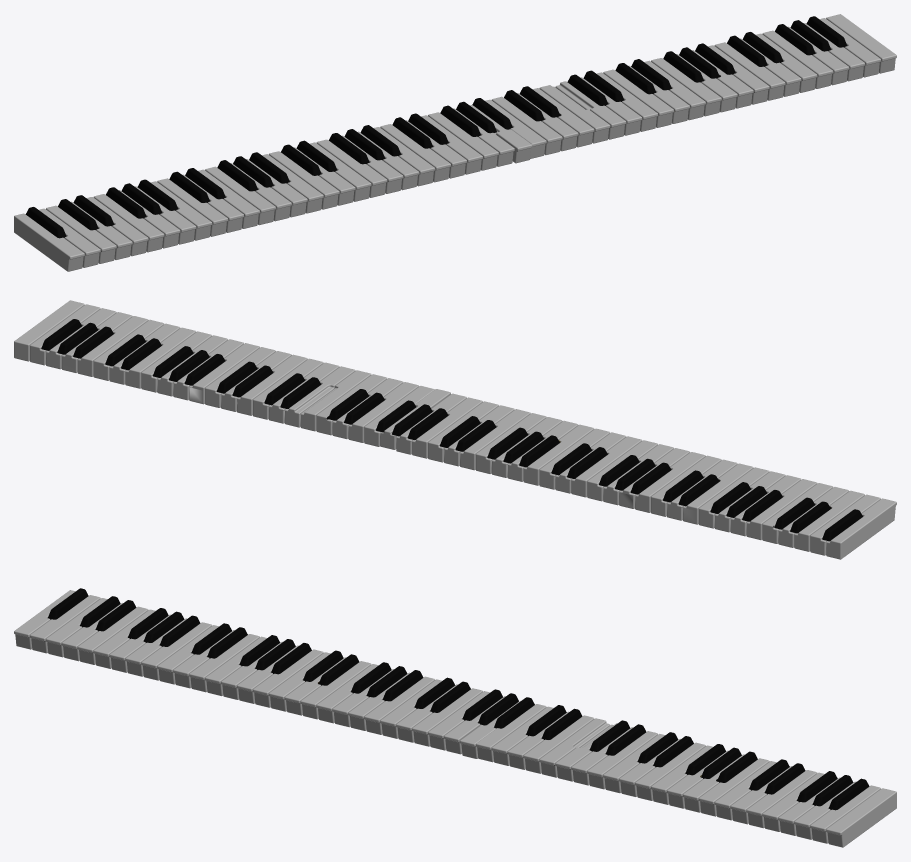
Rendered from piano.fbx.
3 renders of one model, top to bottom at view 1: azimuth 30°, elevation 25°; view 2: azimuth 150°, elevation 25°; view 3: azimuth 330°, elevation 25°, orthographic.
Visible parts, largest first — view 1: Piano.058, Piano.109, Piano.098, Piano.097, Piano.101, Piano.105, Piano.078, Piano.089, Piano.093, Piano.072, Piano.081, Piano.085 (+42 smaller); view 2: Piano.058, Piano.109, Piano.098, Piano.097, Piano.081, Piano.105, Piano.078, Piano.089, Piano.072, Piano.066, Piano.060, Piano.101 (+42 smaller); view 3: Piano.109, Piano.097, Piano.068, Piano.059, Piano.062, Piano.065, Piano.074, Piano.071, Piano.080, Piano.077, Piano.084, Piano.088 (+41 smaller).
Part boxes in pixels (x1=…): Piano.058: x1=14, y1=213, x2=84, y2=271; Piano.109: x1=826, y1=14, x2=896, y2=73; Piano.098: x1=555, y1=81, x2=626, y2=139; Piano.097: x1=539, y1=85, x2=610, y2=143; Piano.101: x1=651, y1=58, x2=721, y2=116; Piano.105: x1=762, y1=30, x2=833, y2=88; Piano.078: x1=714, y1=42, x2=785, y2=100; Piano.089: x1=316, y1=139, x2=387, y2=197; Piano.093: x1=428, y1=112, x2=498, y2=170; Piano.072: x1=491, y1=96, x2=562, y2=155; Piano.081: x1=93, y1=194, x2=164, y2=252; Piano.085: x1=205, y1=166, x2=275, y2=225; Piano.058: x1=826, y1=498, x2=896, y2=559; Piano.109: x1=14, y1=300, x2=84, y2=361; Piano.098: x1=284, y1=366, x2=355, y2=427; Piano.097: x1=300, y1=370, x2=371, y2=431; Piano.081: x1=746, y1=479, x2=817, y2=540; Piano.105: x1=77, y1=316, x2=148, y2=376; Piano.078: x1=125, y1=327, x2=196, y2=388; Piano.089: x1=523, y1=424, x2=594, y2=485; Piano.072: x1=348, y1=382, x2=419, y2=442; Piano.066: x1=571, y1=436, x2=642, y2=497; Piano.060: x1=794, y1=490, x2=864, y2=551; Piano.101: x1=189, y1=343, x2=259, y2=404; Piano.109: x1=826, y1=788, x2=896, y2=847; Piano.097: x1=539, y1=718, x2=610, y2=777; Piano.068: x1=300, y1=661, x2=371, y2=719; Piano.059: x1=30, y1=595, x2=100, y2=653; Piano.062: x1=77, y1=606, x2=148, y2=664; Piano.065: x1=189, y1=634, x2=259, y2=692; Piano.074: x1=523, y1=715, x2=594, y2=773; Piano.071: x1=412, y1=688, x2=482, y2=746; Piano.080: x1=746, y1=770, x2=817, y2=828; Piano.077: x1=635, y1=742, x2=705, y2=800; Piano.084: x1=141, y1=622, x2=212, y2=680; Piano.088: x1=253, y1=649, x2=323, y2=707.
Size of the model in its own units: 123 by 3.42 by 14.72.
